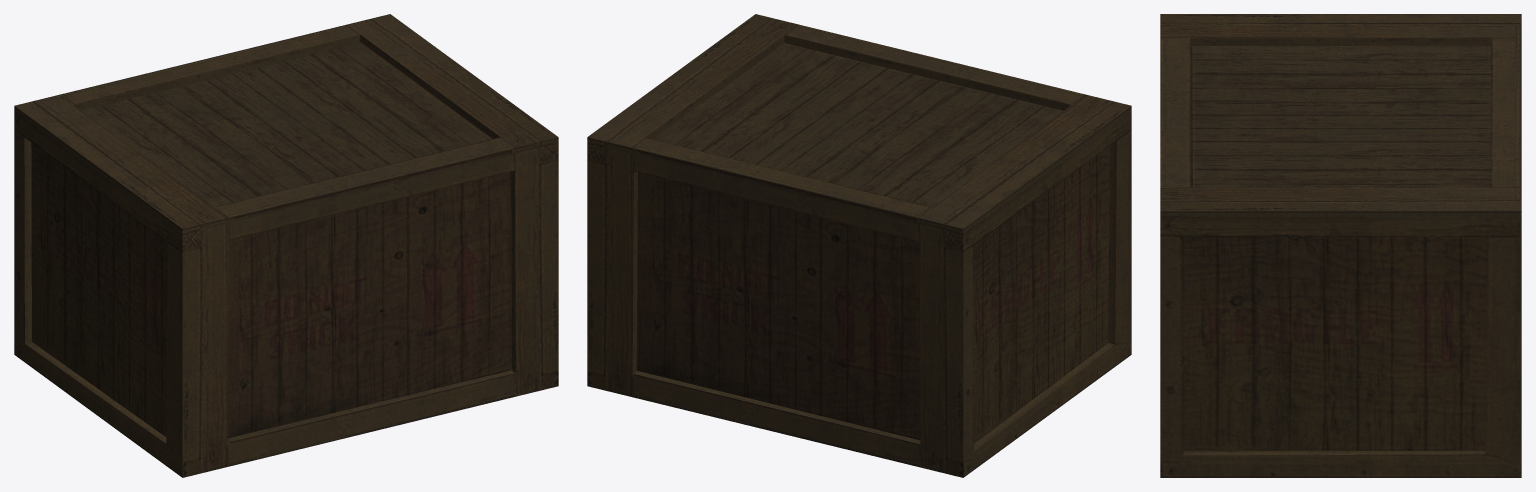
The model's file is wooden_crate_1.dae.
The picture shows the model from 3 angles, left to right: view 1: azimuth 30°, elevation 25°; view 2: azimuth 150°, elevation 25°; view 3: azimuth 270°, elevation 25°; orthographic projection. The views are drawn at different scales.
Visible parts, largest first — view 1: wooden_crate_1; view 2: wooden_crate_1; view 3: wooden_crate_1.
Boxes of the visible parts, x1=… form: wooden_crate_1: x1=14, y1=14, x2=558, y2=477; wooden_crate_1: x1=587, y1=14, x2=1131, y2=477; wooden_crate_1: x1=1160, y1=14, x2=1521, y2=477.
Bounding box in the file's own units: 1.47 × 1.14 × 0.93.
1 material, 1 textured.
